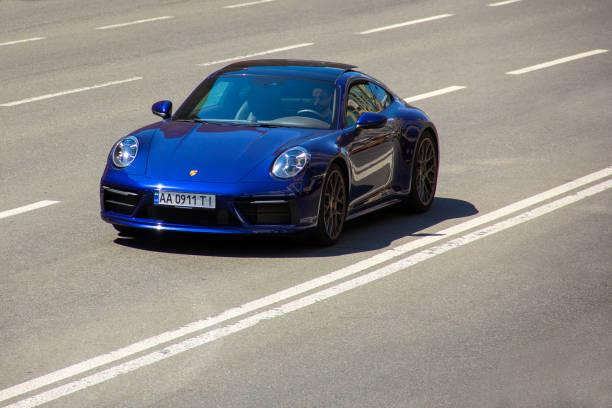porsche: (184, 167, 202, 179)
